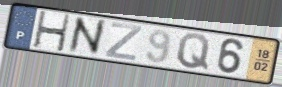6: (216, 38, 246, 75)
9: (144, 28, 175, 65)
H: (31, 10, 72, 54)
N: (67, 15, 107, 56)
Q: (175, 32, 212, 72)
Z: (103, 21, 144, 62)
